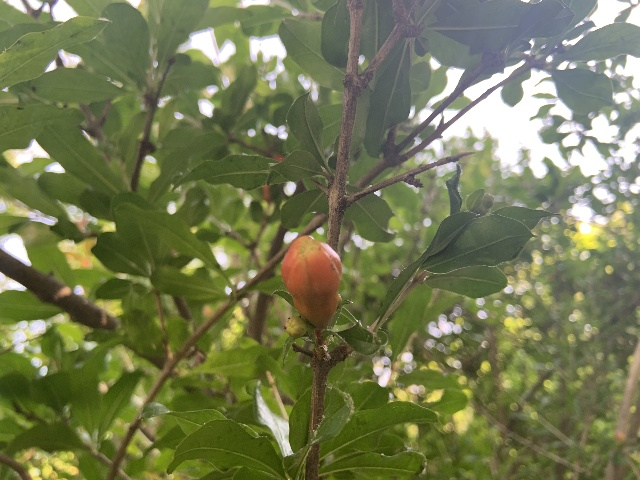bud: (281, 235, 341, 326), (284, 316, 309, 338)
